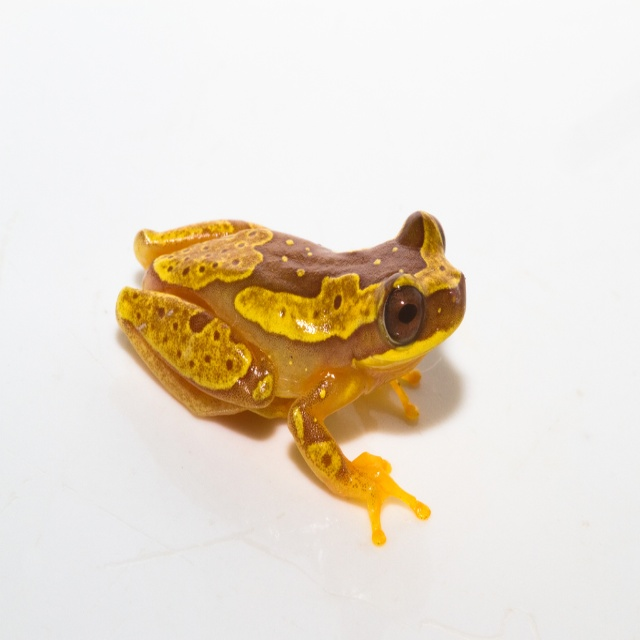Frog: (112, 206, 469, 549)
